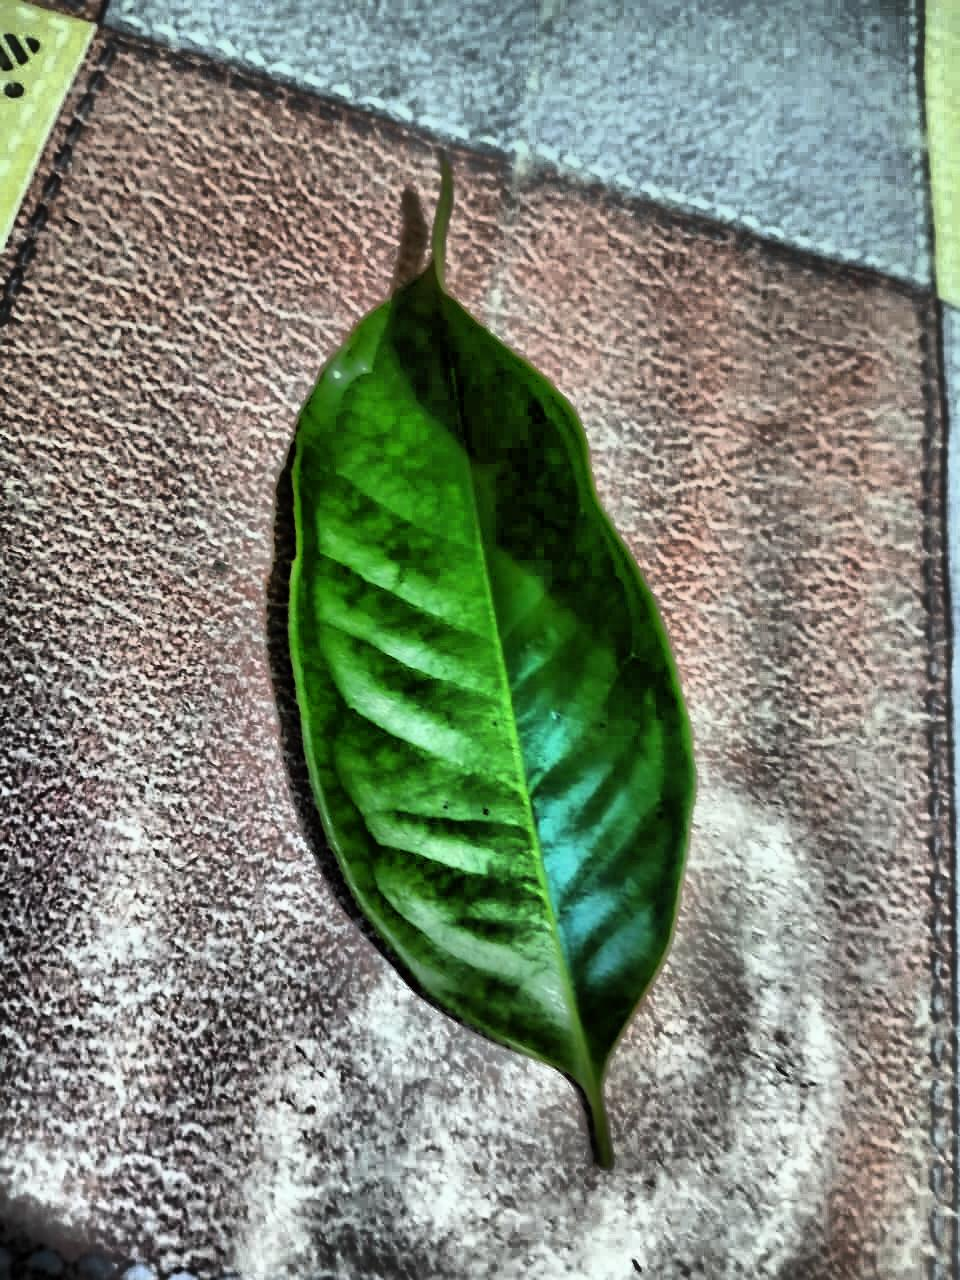daun salam: (288, 161, 694, 1165)
